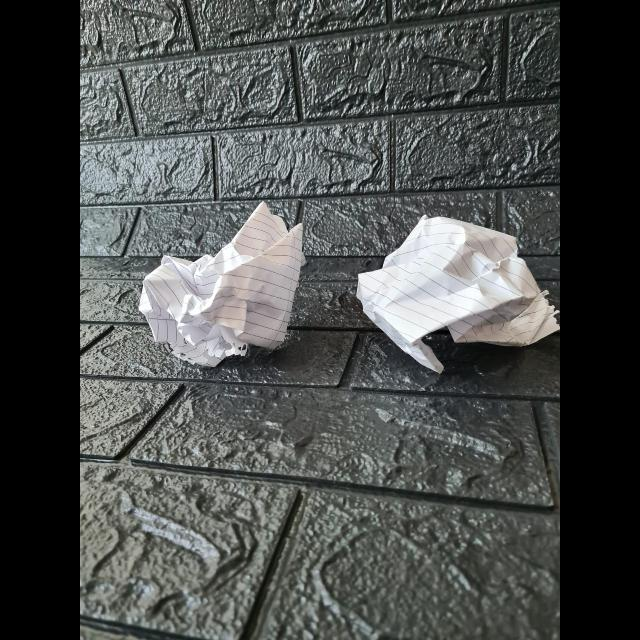scrap_paper: (348, 217, 558, 367), (134, 200, 306, 368)
